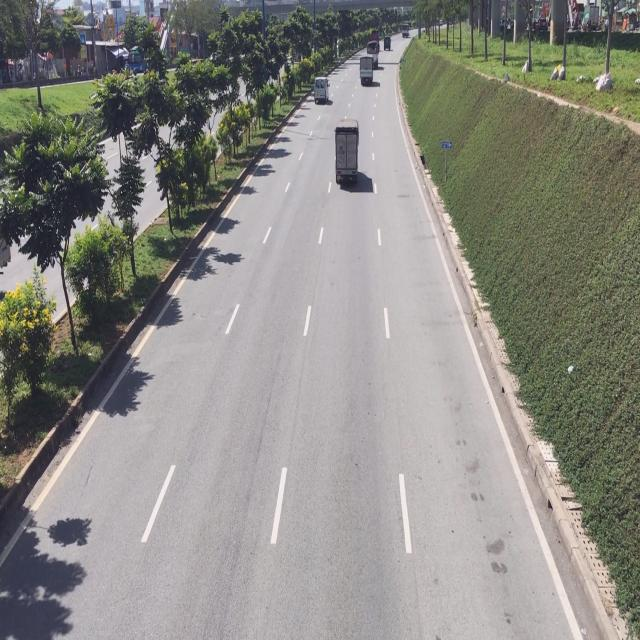bus: (313, 75, 329, 104)
truck: (335, 118, 361, 189), (358, 53, 375, 88)
